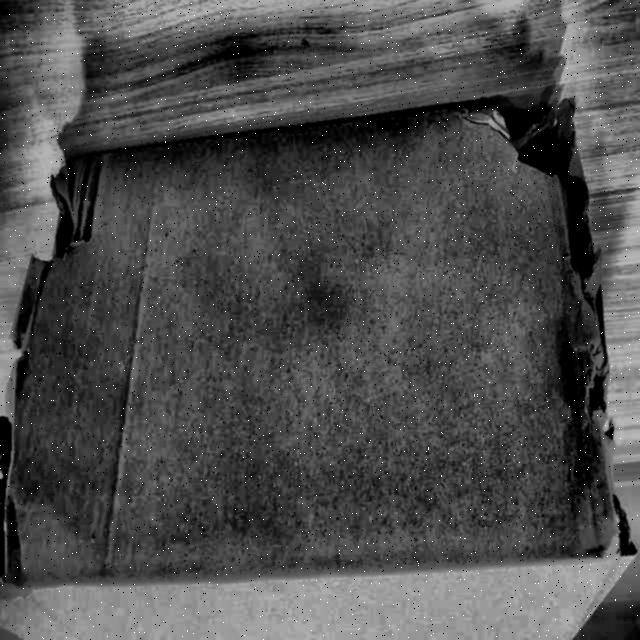box: (1, 73, 640, 640)
hole: (491, 97, 597, 319), (50, 176, 82, 270), (581, 343, 607, 430)
